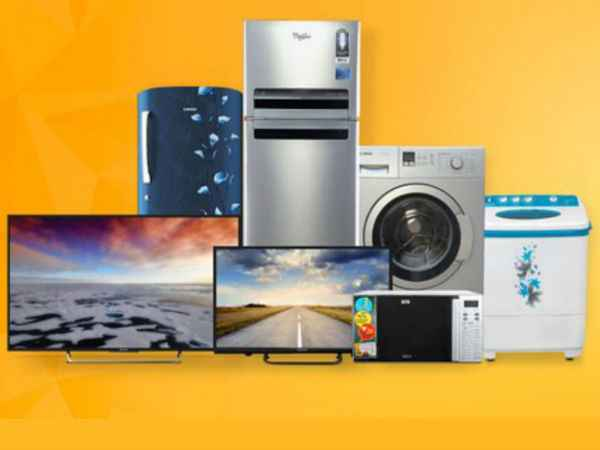Refrigerator: (243, 21, 357, 244), (139, 90, 240, 213)
